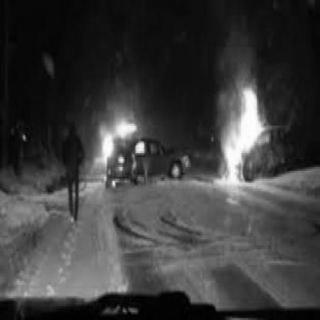Fire: (209, 80, 273, 186)
